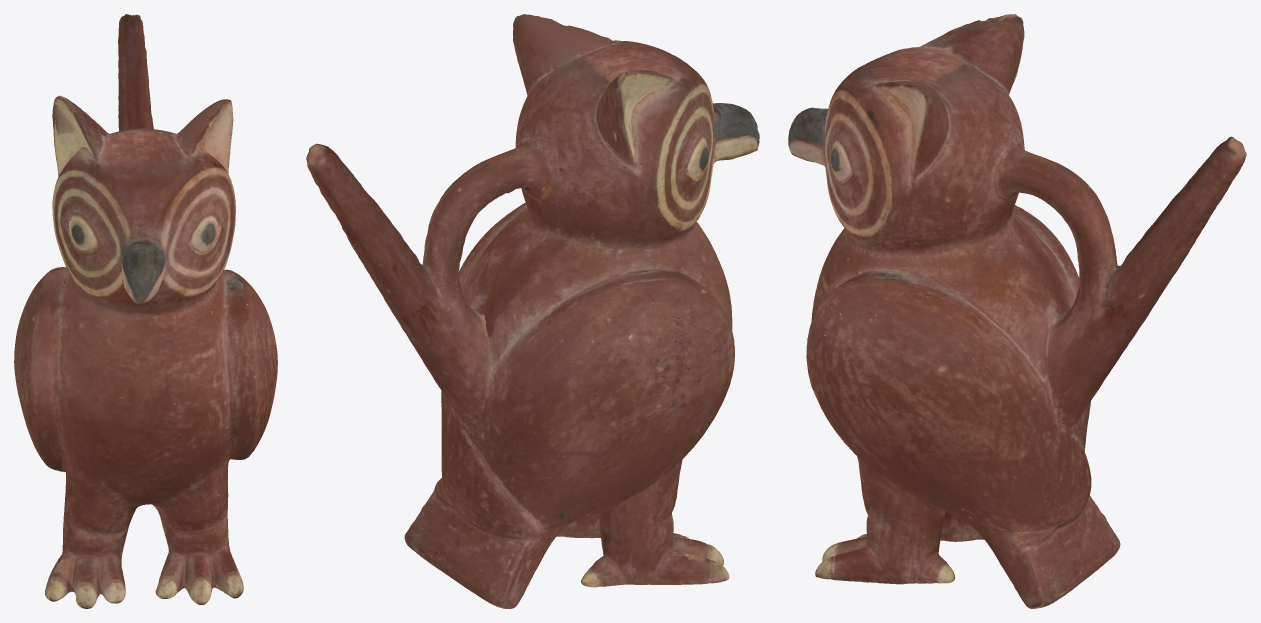
File: ceramica_ornitomorfa_moche.glb
The picture shows the model from 3 angles, left to right: view 1: azimuth 30°, elevation 25°; view 2: azimuth 150°, elevation 25°; view 3: azimuth 270°, elevation 25°; orthographic projection. The views are drawn at different scales.
Visible parts, largest first — view 1: Object_3, Object_2, Object_4, Object_5, Object_6; view 2: Object_3, Object_4, Object_2, Object_5, Object_6; view 3: Object_3, Object_4, Object_2, Object_5.
Boxes of the visible parts, x1,y1,x2,y2 form: Object_3: (14, 16, 277, 555); Object_2: (52, 14, 277, 559); Object_4: (14, 95, 277, 608); Object_5: (15, 103, 244, 604); Object_6: (177, 99, 230, 150); Object_3: (306, 38, 759, 608); Object_4: (402, 15, 759, 602); Object_2: (306, 19, 732, 608); Object_5: (407, 16, 754, 608); Object_6: (515, 14, 609, 68); Object_3: (788, 42, 1246, 606); Object_4: (788, 16, 1137, 608); Object_2: (809, 14, 1246, 608); Object_5: (792, 46, 1129, 595).
Size of the model in its own units: 0.2595 by 0.4679 by 0.3747.
Materials: 2 (2 with a texture image).
